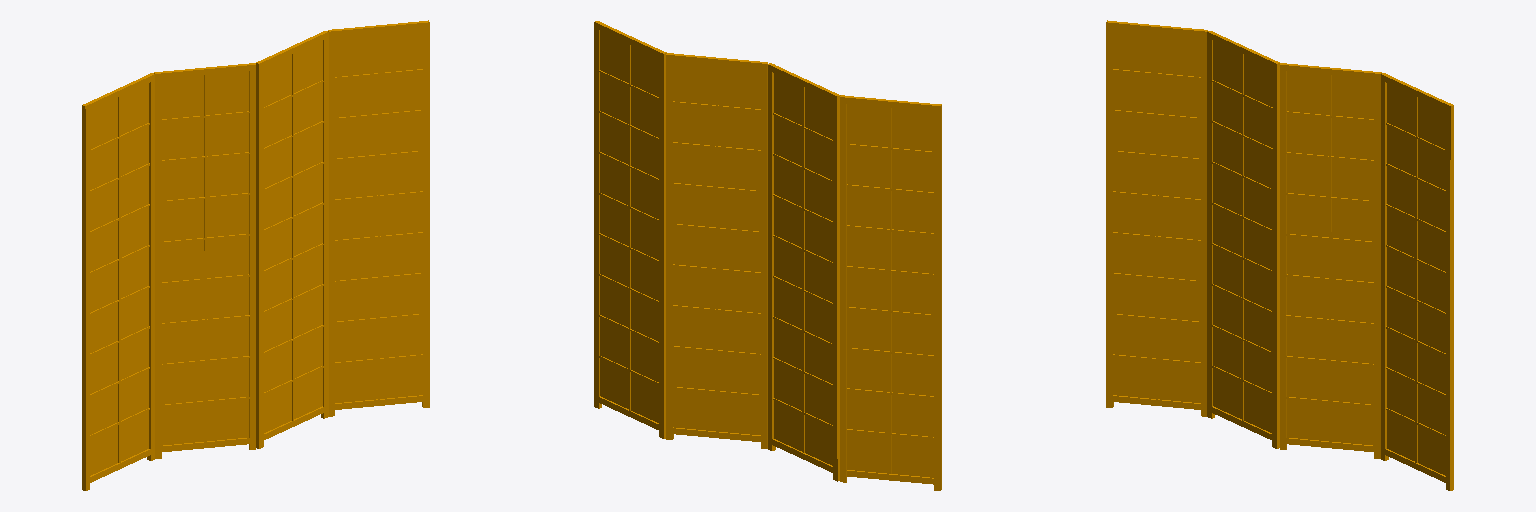
URDF robot description (none):
<robot name="none">
       <link name="none">
           <visual>
               <origin rpy="1.57 0 0" xyz="0 0 0" />
               <geometry>
                   <mesh filename="japanese_style_screen.obj" />
               </geometry>
           </visual>
          <collision>
              <geometry>
                  <box size="0.941748 1.000000 0.083795" />
              </geometry>
          </collision>

          <inertial>
            <mass value="0.0" />
            <inertia ixx="0.0" ixy="0.0" ixz="0.0" iyy="0.0" iyz="0.0" izz="0.0" />
          </inertial>
      </link>
  </robot>

--- Facts derived from the render (not from the file) ---
3 views of the same robot in one strip: view 1: azimuth 30°, elevation 25°; view 2: azimuth 150°, elevation 25°; view 3: azimuth 330°, elevation 25° (orthographic).
Robot: none — 1 links, 0 joints (none); root link none; default pose: every joint at zero.
Links seen in each view (by area): view 1: none; view 2: none; view 3: none.
Link boxes in pixels (<box>): none: <box>82,20,429,490</box>; none: <box>594,21,941,490</box>; none: <box>1106,20,1453,490</box>.
Size in the robot's own frame: 0.9417 by 0.0846 by 1 metres.
1 mesh visuals loaded from 1 distinct referenced files (1 OBJ).